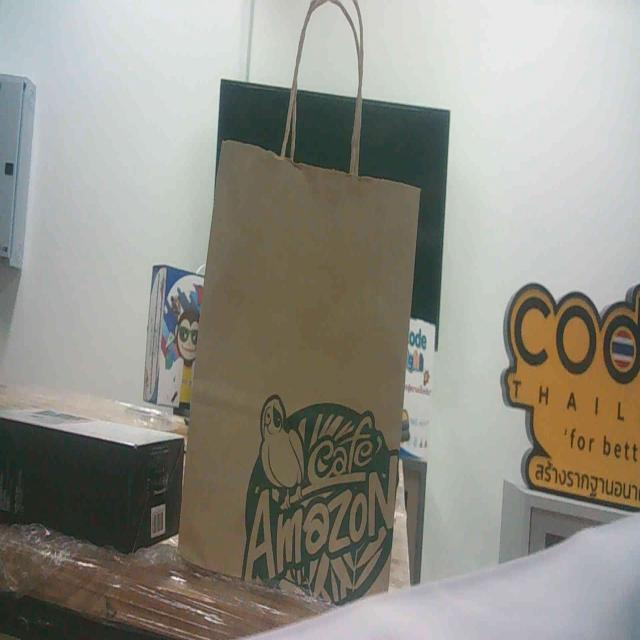bag: (188, 111, 417, 640)
